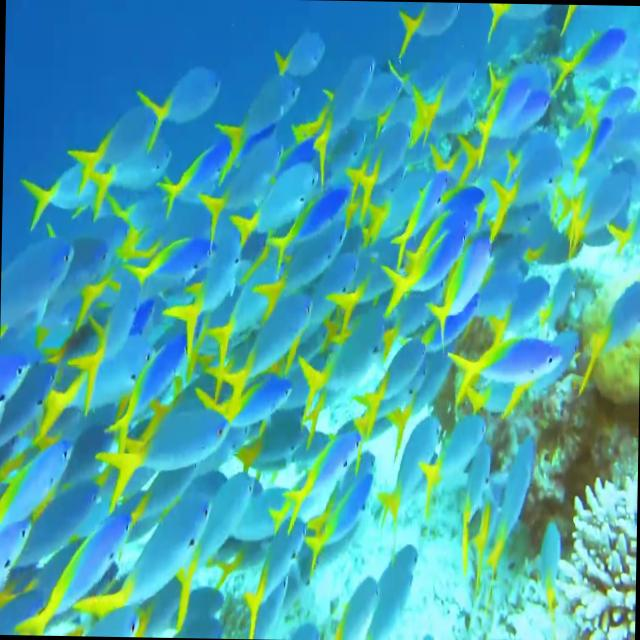fish: (80, 490, 218, 621), (14, 491, 131, 636), (114, 403, 228, 491), (310, 48, 378, 186), (241, 514, 311, 640), (282, 427, 362, 533), (346, 333, 428, 436), (380, 217, 471, 307), (478, 59, 556, 162), (412, 409, 484, 520), (481, 430, 535, 578), (455, 331, 566, 398), (226, 66, 303, 161), (234, 160, 322, 240), (180, 232, 242, 338), (146, 59, 222, 144), (570, 176, 632, 253)
